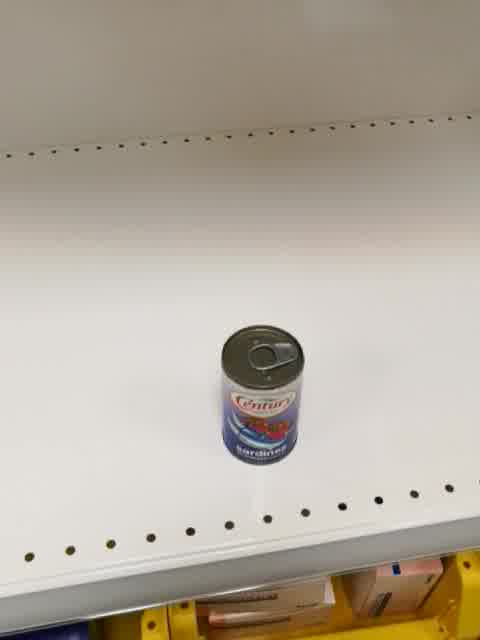sardine: (220, 322, 305, 465)
